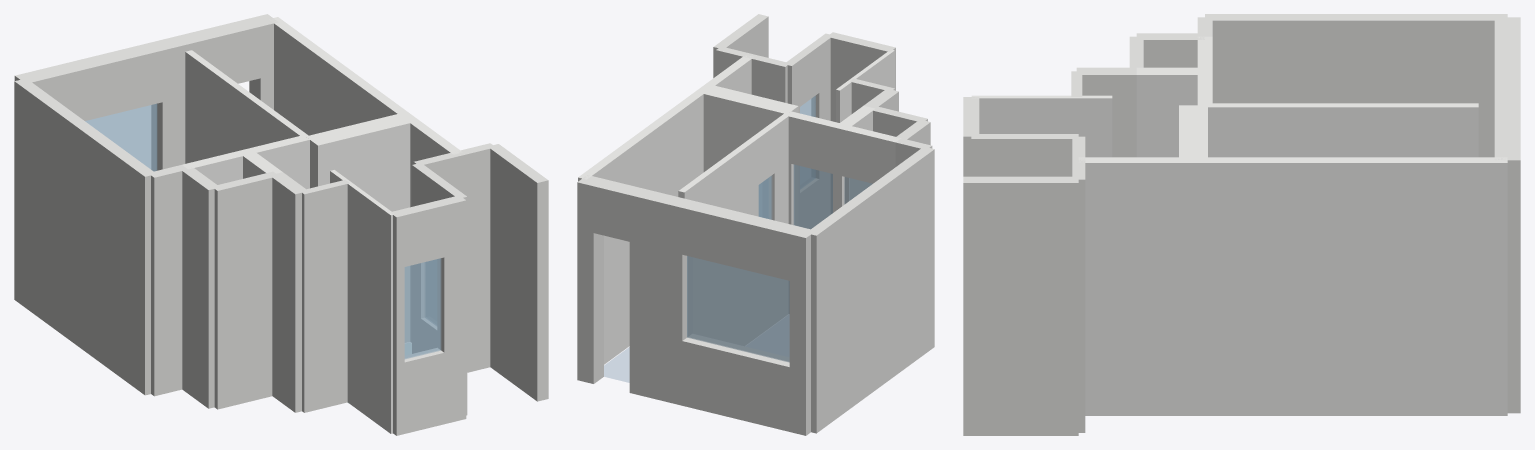
The model's file is Screenshot 2026-10-06 152627_3d.glb.
The picture shows the model from 3 angles, left to right: view 1: azimuth 30°, elevation 25°; view 2: azimuth 150°, elevation 25°; view 3: azimuth 270°, elevation 25°; orthographic projection. The views are drawn at different scales.
Visible parts, largest first — view 1: wall_W11_29, wall_W21_45, wall_W6_21, wall_W9_24, wall_W16_34, wall_W19_43, wall_W12_30, wall_W2_8, wall_W14_32, wall_W17_35, wall_W1_2, wall_W10_28 (+24 smaller); view 2: wall_W11_29, wall_W1_5, wall_W19_43, wall_W17_35, window_N1_46, wall_W1_1, wall_W1_2, wall_W1_7, wall_W1_0, wall_W5_20, wall_W3_11, wall_W17_38 (+31 smaller); view 3: wall_W19_43, wall_W21_45, wall_W20_44, wall_W11_29, wall_W17_35, wall_W13_31, wall_W16_34, wall_W1_7, wall_W14_32, wall_W8_23, wall_W17_37, wall_W17_38 (+12 smaller).
Part boxes in pixels (<box>): wall_W11_29: <box>14,80,156,395</box>; wall_W21_45: <box>488,144,548,401</box>; wall_W6_21: <box>212,171,278,409</box>; wall_W9_24: <box>302,180,349,412</box>; wall_W16_34: <box>347,181,393,433</box>; wall_W19_43: <box>269,17,413,135</box>; wall_W12_30: <box>182,167,219,408</box>; wall_W2_8: <box>148,165,187,396</box>; wall_W14_32: <box>271,172,307,412</box>; wall_W17_35: <box>185,50,273,163</box>; wall_W1_2: <box>33,42,162,120</box>; wall_W10_28: <box>437,195,466,424</box>; wall_W11_29: <box>811,147,934,433</box>; wall_W1_5: <box>629,188,692,405</box>; wall_W19_43: <box>578,87,704,364</box>; wall_W17_35: <box>678,136,758,345</box>; window_N1_46: <box>687,256,789,362</box>; wall_W1_1: <box>682,334,789,431</box>; wall_W1_2: <box>682,200,799,280</box>; wall_W1_7: <box>577,175,603,383</box>; wall_W1_0: <box>789,227,815,435</box>; wall_W5_20: <box>699,84,761,171</box>; wall_W3_11: <box>842,126,896,183</box>; wall_W17_38: <box>769,113,788,323</box>; wall_W19_43: <box>1193,157,1507,415</box>; wall_W21_45: <box>963,176,1078,435</box>; wall_W20_44: <box>1078,157,1193,415</box>; wall_W11_29: <box>1205,14,1507,157</box>; wall_W17_35: <box>1289,103,1478,157</box>; wall_W13_31: <box>1136,67,1204,157</box>; wall_W16_34: <box>971,95,1076,133</box>; wall_W1_7: <box>1494,150,1520,413</box>; wall_W14_32: <box>1076,67,1136,157</box>; wall_W8_23: <box>1072,160,1085,432</box>; wall_W17_37: <box>1248,103,1288,157</box>; wall_W17_38: <box>1205,103,1247,157</box>.
Size of the model in its own units: 3.94 by 2.75 by 5.49.
